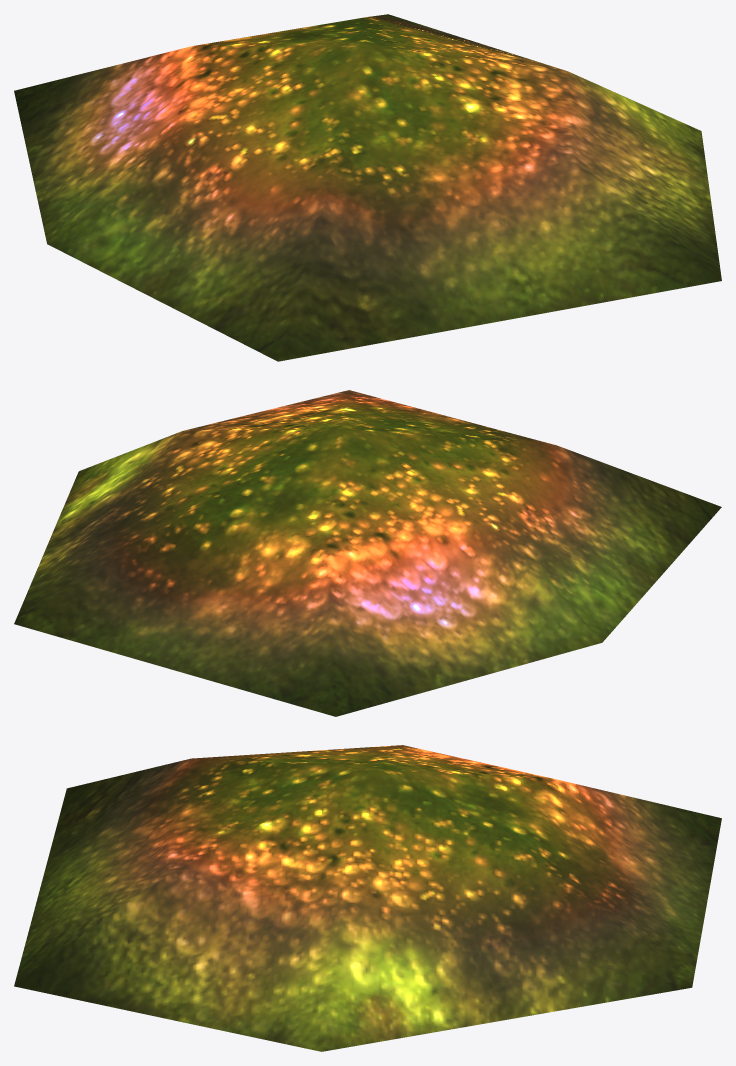
File: moalg02.FBX
3 views of the same model, one above another, from view 1: azimuth 30°, elevation 25°; view 2: azimuth 150°, elevation 25°; view 3: azimuth 270°, elevation 25° (orthographic). The views are drawn at different scales.
Parts seen in each view (by area): view 1: moalg02__2g; view 2: moalg02__2g; view 3: moalg02__2g.
Part boxes in pixels (<box>): moalg02__2g: <box>14,14,721,361</box>; moalg02__2g: <box>14,390,721,716</box>; moalg02__2g: <box>14,745,721,1051</box>.
Bounding box in the file's own units: 5.11 × 1.12 × 5.34.
